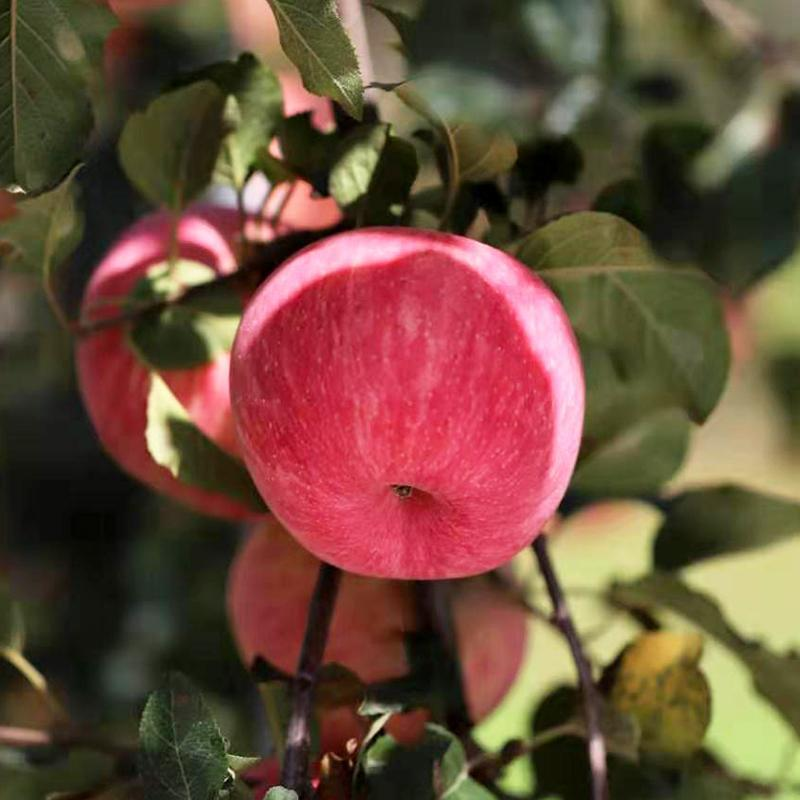apple: (227, 225, 582, 580)
